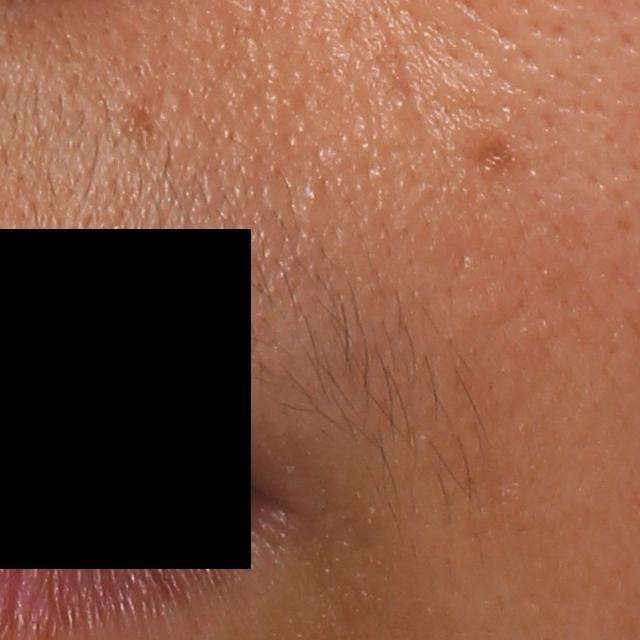nevus: (472, 136, 513, 175)
